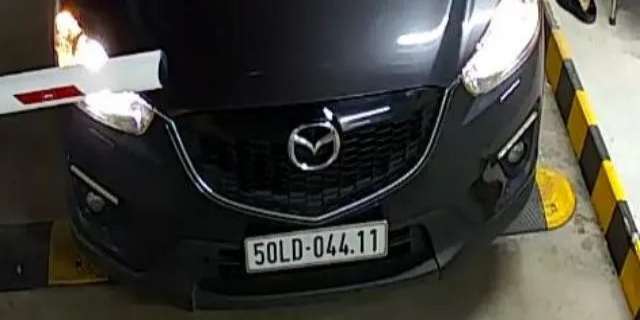bien_so: (247, 226, 384, 263)
